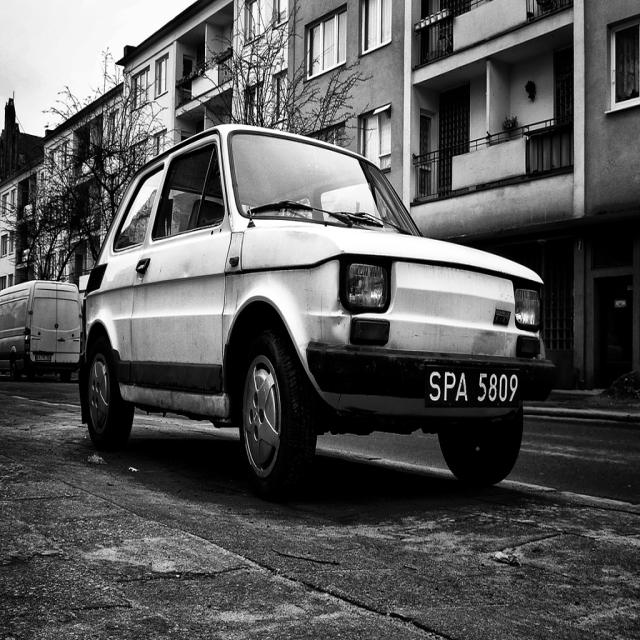car: (75, 122, 543, 492)
